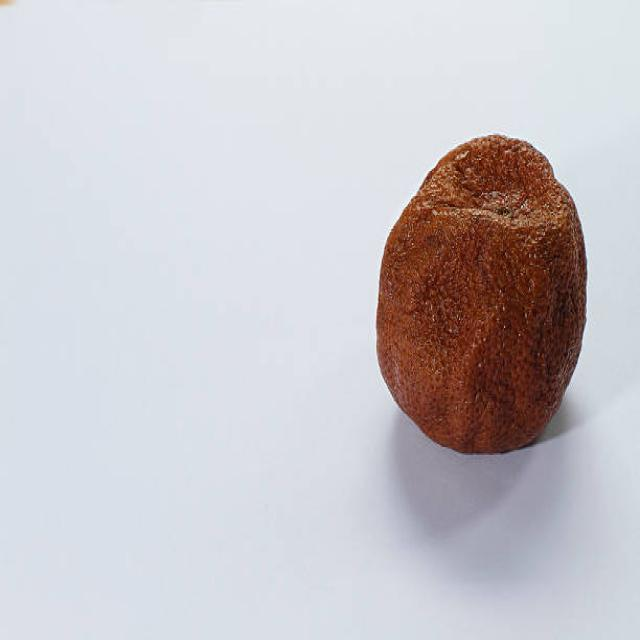overripe: (373, 130, 590, 457)
